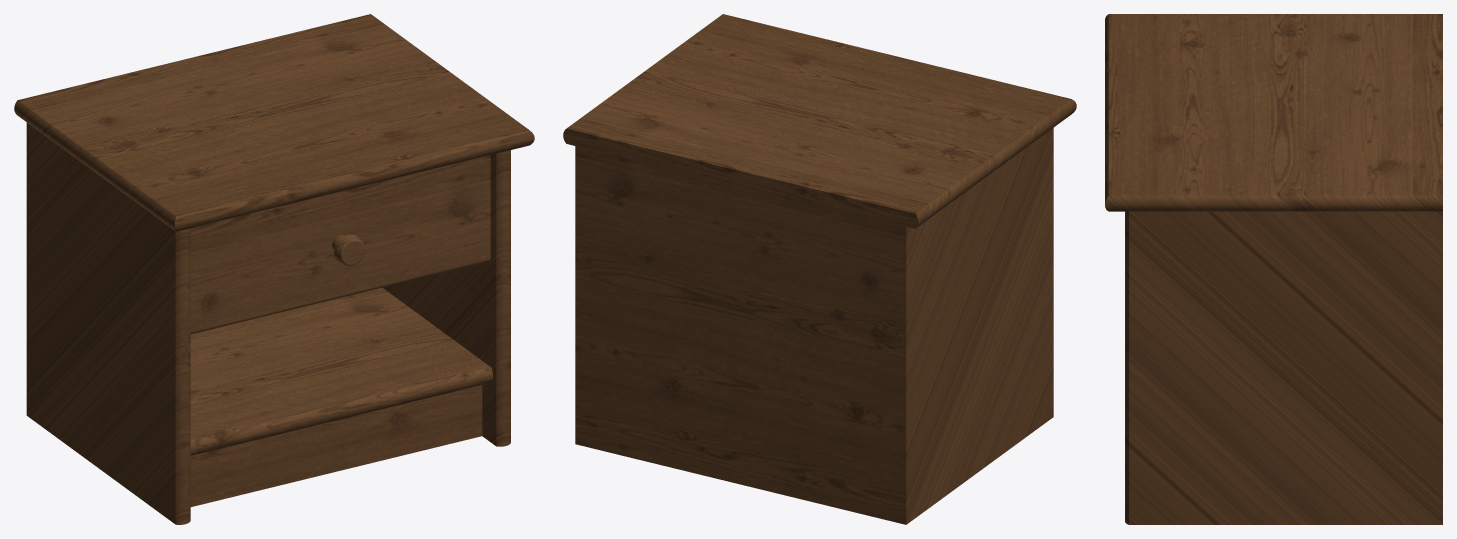
File: cupboard.FBX
The picture shows the model from 3 angles, left to right: view 1: azimuth 30°, elevation 25°; view 2: azimuth 150°, elevation 25°; view 3: azimuth 270°, elevation 25°; orthographic projection. The views are drawn at different scales.
Visible parts, largest first — view 1: default_1_1_1; view 2: default_1_1_1; view 3: default_1_1_1.
Boxes of the visible parts, x1,y1,x2,y2 form: default_1_1_1: (14,14,534,524); default_1_1_1: (563,14,1076,524); default_1_1_1: (1105,14,1442,524).
Bounding box in the file's own units: 44 × 37.79 × 34.
Materials: 6 (6 with a texture image).
